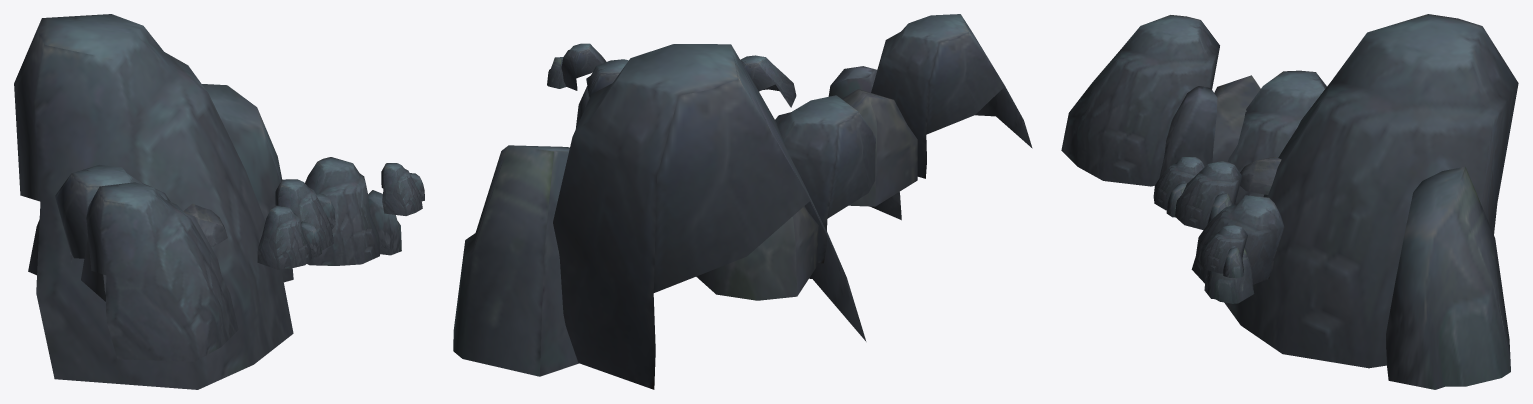
The model's file is Area_11_51.fbx.
The picture shows the model from 3 angles, left to right: view 1: azimuth 30°, elevation 25°; view 2: azimuth 150°, elevation 25°; view 3: azimuth 270°, elevation 25°; orthographic projection. The views are drawn at different scales.
Visible parts, largest first — view 1: Area_11_51; view 2: Area_11_51; view 3: Area_11_51.
Part boxes in pixels (x1=…): Area_11_51: x1=14, y1=14, x2=424, y2=389; Area_11_51: x1=453, y1=14, x2=1032, y2=389; Area_11_51: x1=1061, y1=14, x2=1518, y2=389.
Size of the model in its own units: 3324 by 2381 by 3681.
